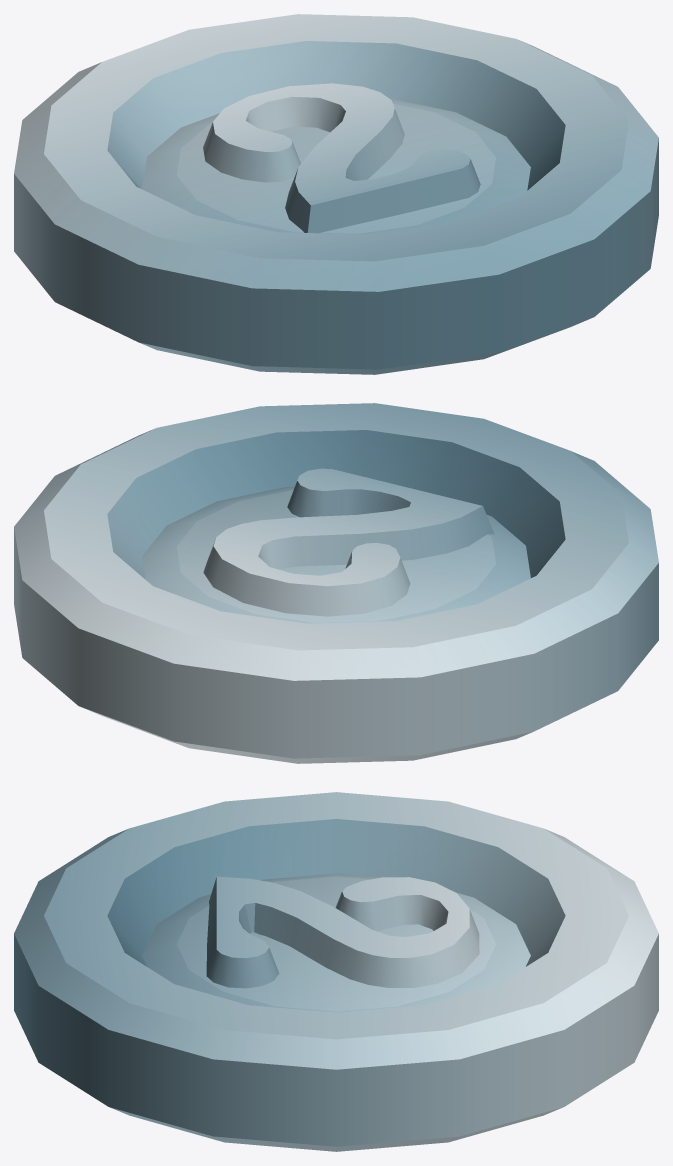
The model's file is coin_2_silver.glb.
3 renders of one model, top to bottom at view 1: azimuth 30°, elevation 25°; view 2: azimuth 150°, elevation 25°; view 3: azimuth 270°, elevation 25°, orthographic.
Parts seen in each view (by area): view 1: coin_2_silver; view 2: coin_2_silver; view 3: coin_2_silver.
Boxes of the visible parts, x1=… form: coin_2_silver: x1=14, y1=14, x2=658, y2=374; coin_2_silver: x1=14, y1=403, x2=658, y2=763; coin_2_silver: x1=14, y1=792, x2=658, y2=1151.
Bounding box in the file's own units: 1.04 × 0.2 × 1.04.
Materials: 1 (1 with a texture image).
